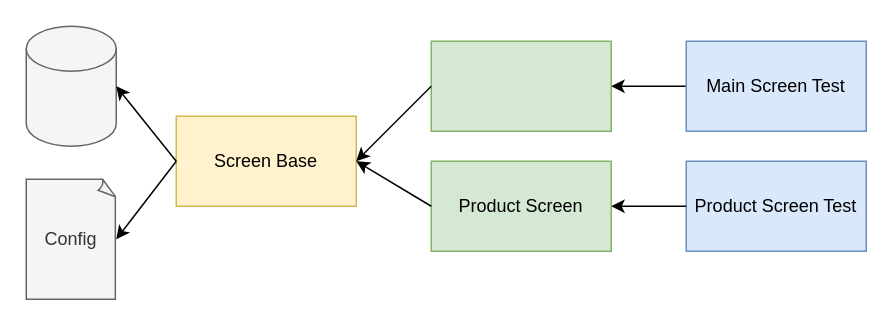
Image size: 893x326. Some labels were removed from this diagram. Here are the shapes that lost their labels. From the top down, the centre of each, then its label:
At point (70, 85): "FlaUI Core".
At point (520, 85): "Main Screen".
